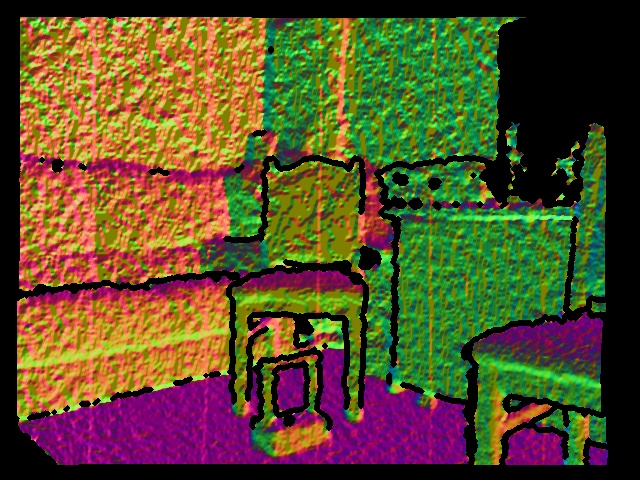station: (251, 351, 334, 457)
